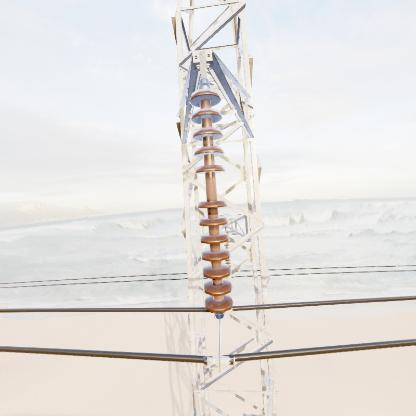insulator: (184, 85, 238, 317)
